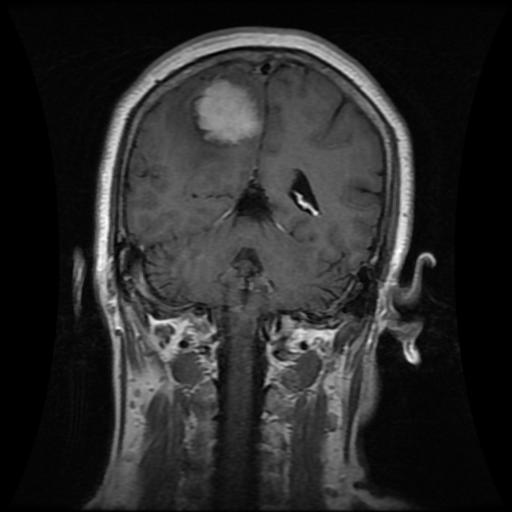Menigiomia_tumour: (192, 78, 262, 146)
